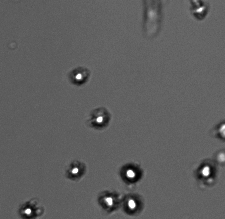Living Cell: (121, 161, 143, 184), (196, 158, 215, 183), (96, 190, 118, 211), (122, 193, 144, 213), (66, 160, 85, 179), (70, 65, 88, 85), (91, 108, 109, 128), (19, 201, 38, 216)
